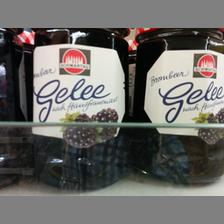Marmelade: (25, 27, 129, 190), (130, 28, 222, 184)
